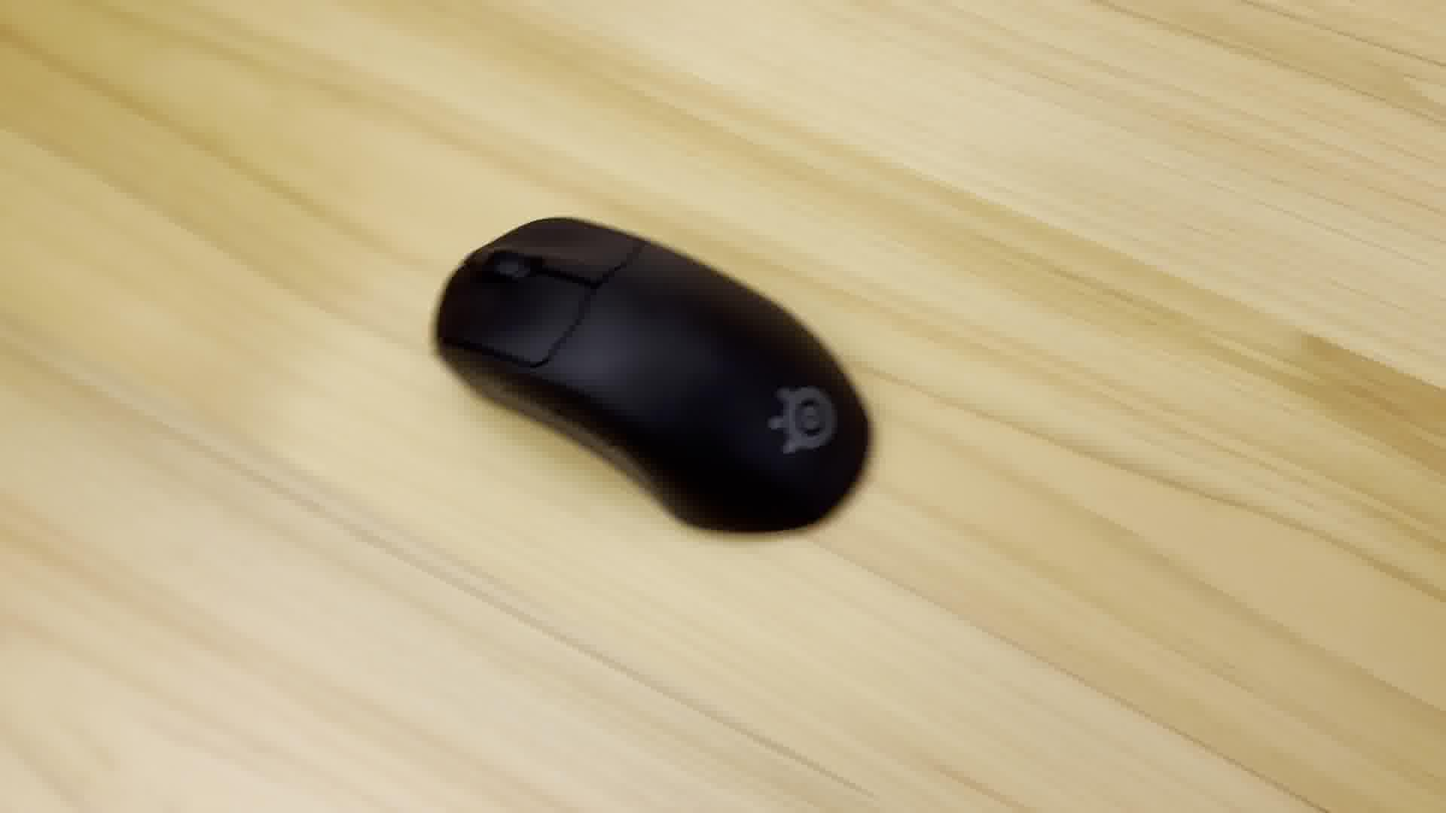mouse: (419, 205, 900, 550)
